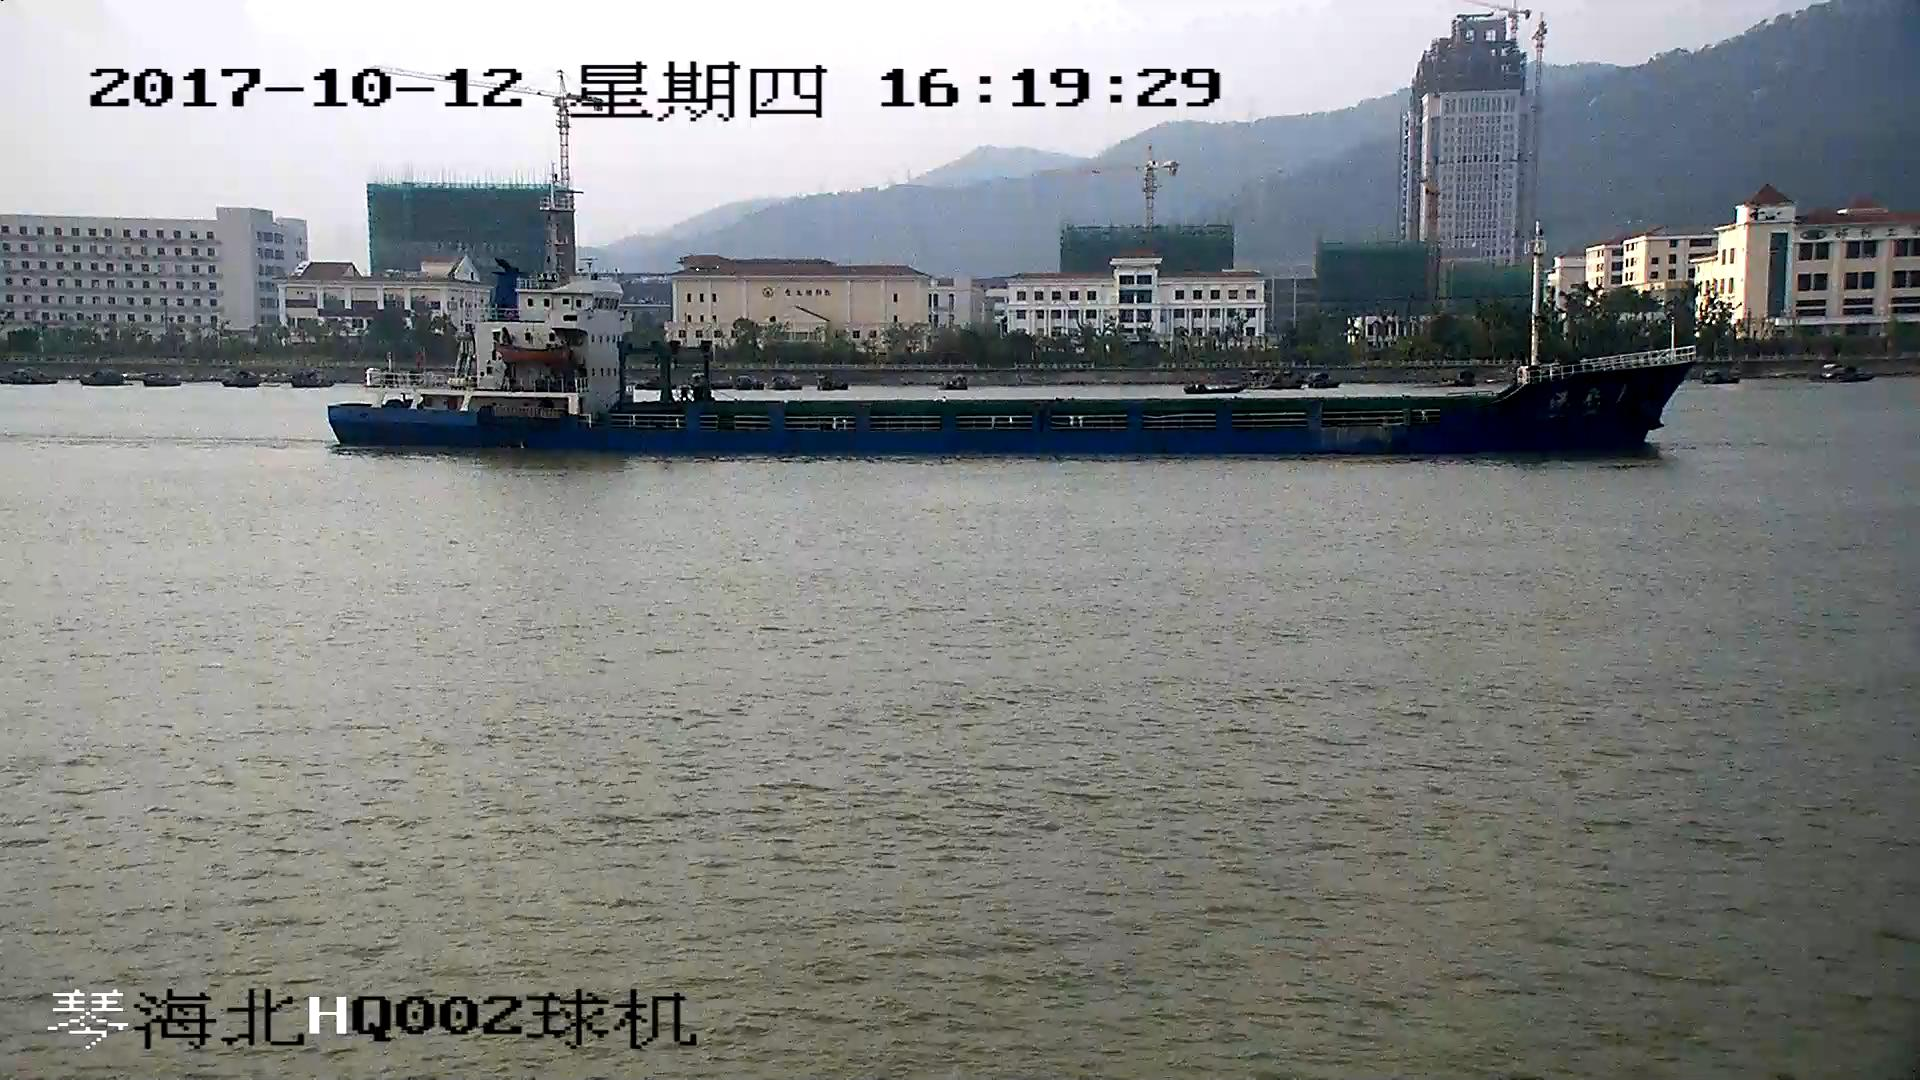general cargo ship: (330, 186, 1687, 456)
